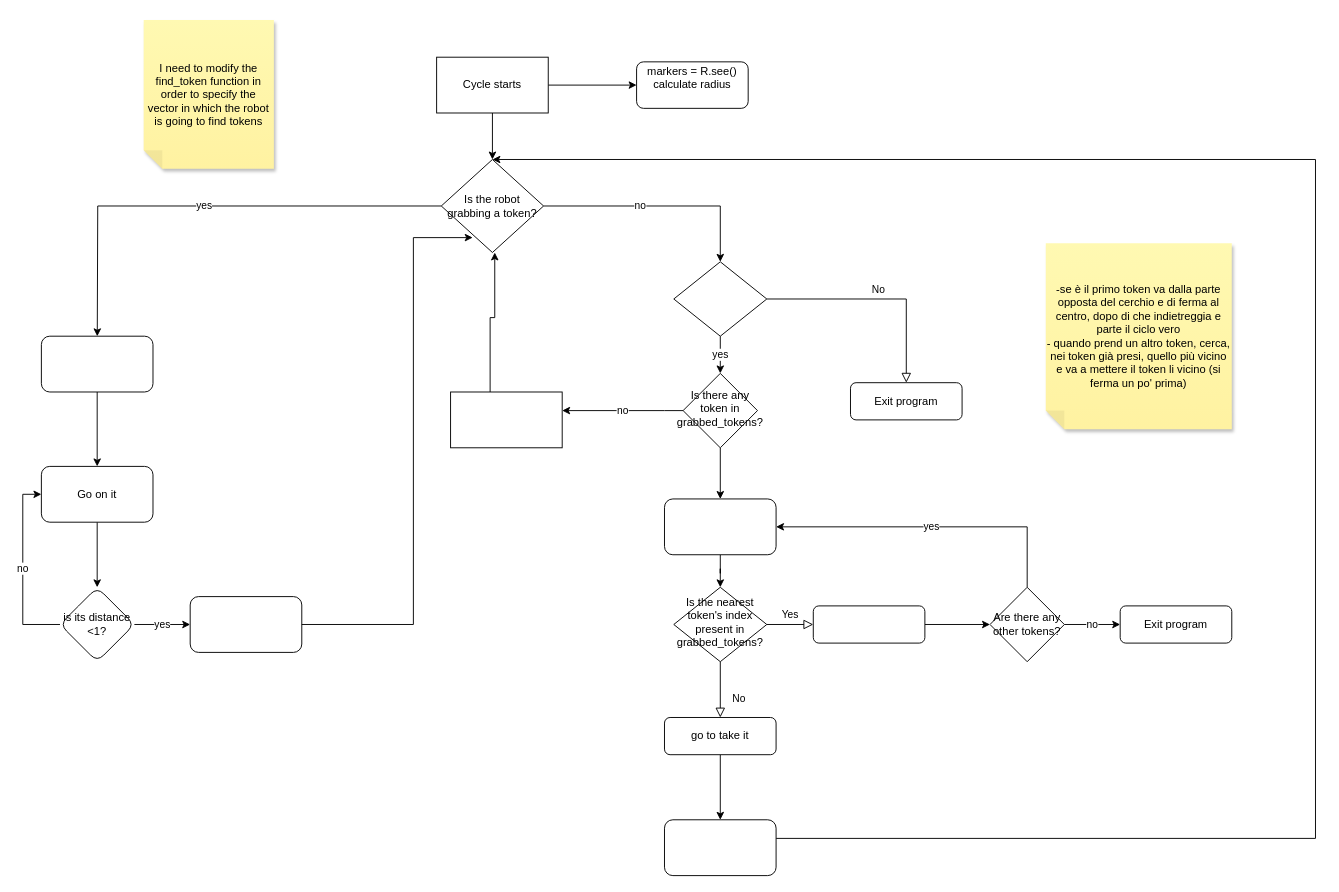
Image size: 1339x892. Some labels were removed from this diagram. Each missing label, with the centre of its shape:
"find the nearest token in tokens" goes at pixel 720 526.
"Is there any token in tokens?" goes at pixel 720 298.
"Remove it from tokens" goes at pixel 868 624.
"Run starting cycle" goes at pixel 506 419.
"Search for the nearest token in grabbed_tokens" goes at pixel 96 363.
"Ungrab it and add item to grabbed_token" goes at pixel 245 624.
"when it is sufficiently near, grab it" goes at pixel 720 847.
